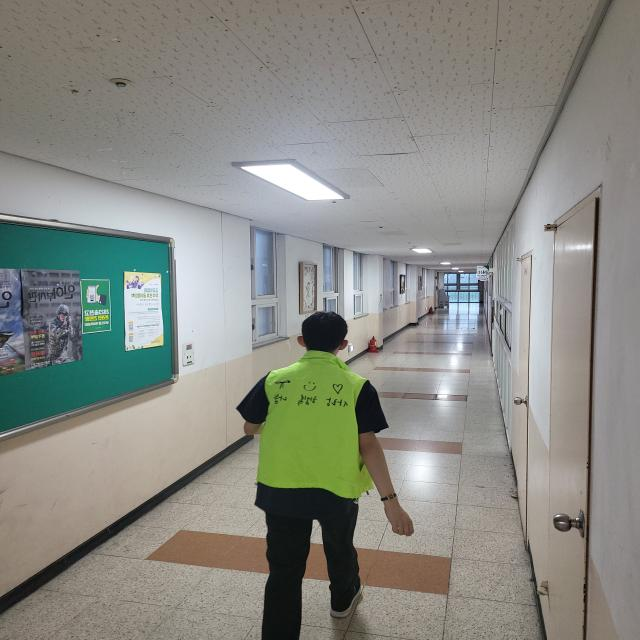weston_spy: (212, 349, 390, 516)
